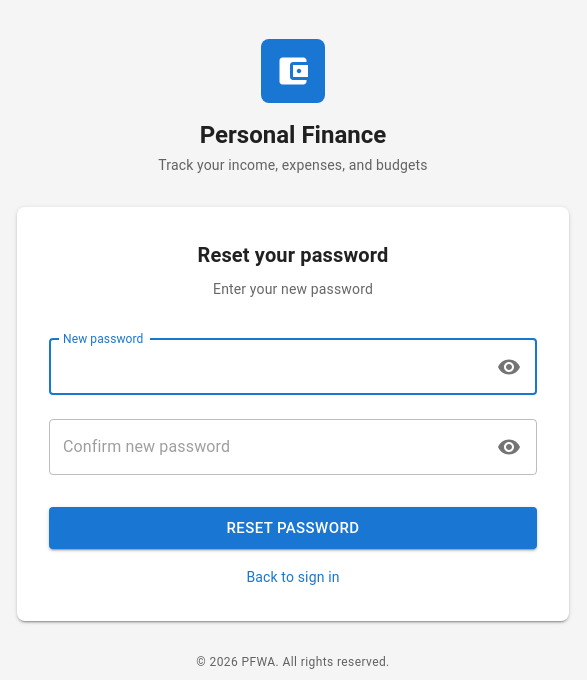
Test case: ResetPasswordPage › should show validation error for weak password
In the password field labelled "New password": coordinates (266, 367) [49,339,484,395], type "weak"
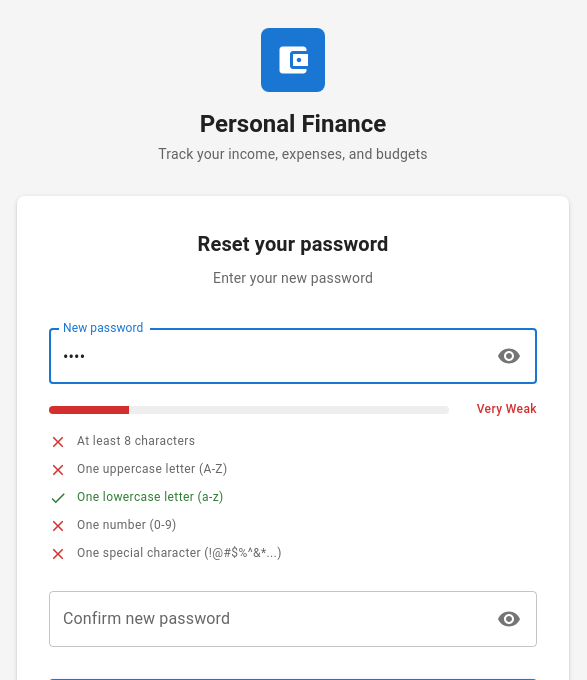
In the password field labelled "Confirm new password": coordinates (266, 620) [49,592,484,648], type "weak"
(page scrolled)
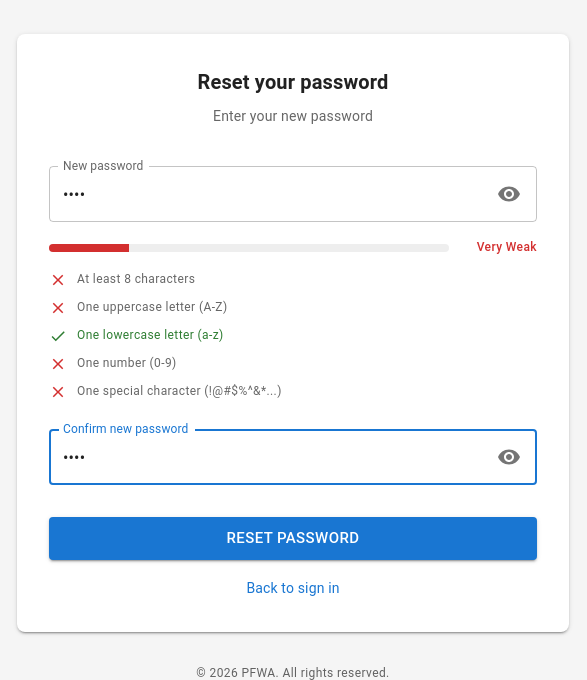
Click the button "Reset password": coordinates (293, 539) [49,518,537,560]
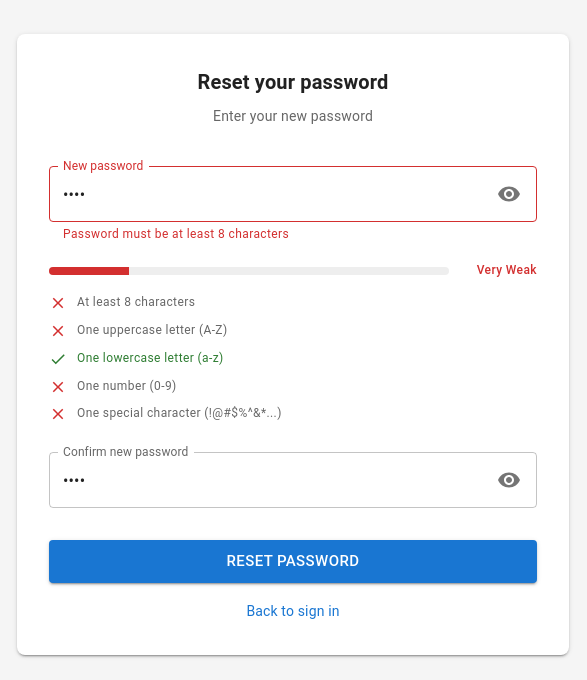
Expected: the text "Password must be at least 8 characters" is shown, [63,227,289,241]
